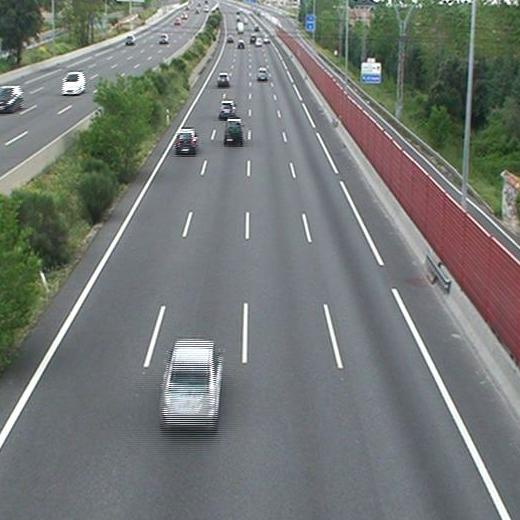car: (162, 341, 220, 425), (224, 119, 243, 142), (177, 131, 196, 152), (219, 101, 235, 117), (217, 74, 229, 86), (257, 68, 268, 80)
